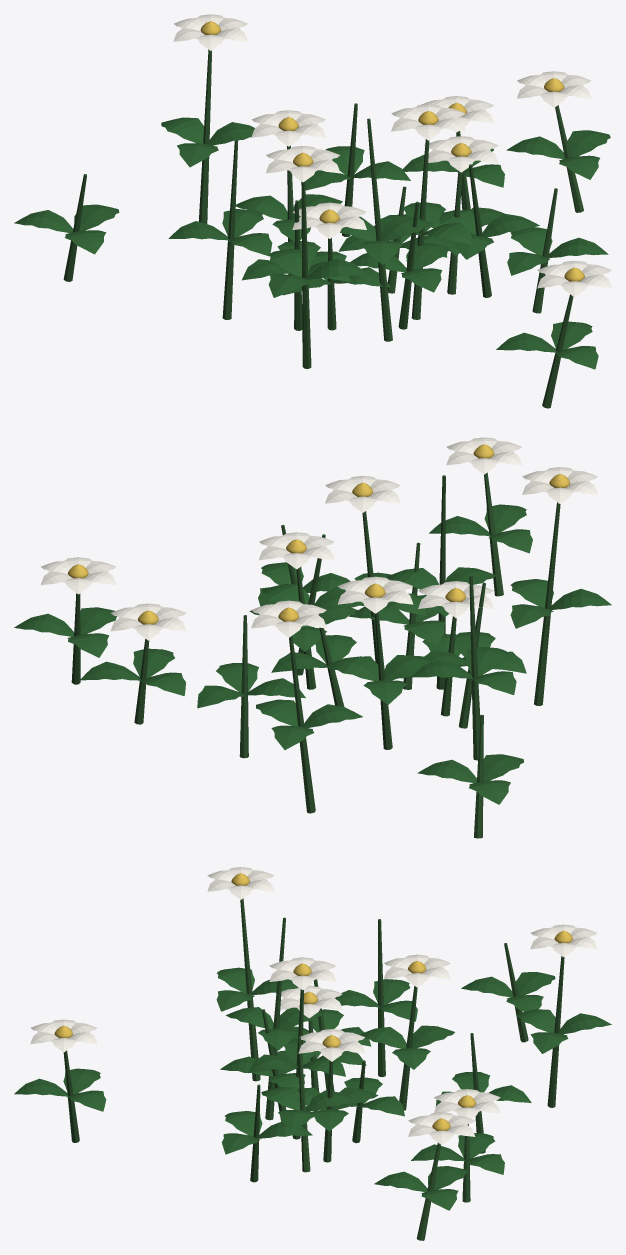
File: detail_wood_anemone.glb
3 views of the same model, one above another, from view 1: azimuth 30°, elevation 25°; view 2: azimuth 150°, elevation 25°; view 3: azimuth 270°, elevation 25° (orthographic). The views are drawn at different scales.
Parts seen in each view (by area): view 1: IndividualAnemoneLeaves, IndividualAnemonePetals, AnemoneStem7, AnemoneStem12, AnemoneStem9, AnemoneStem6, AnemoneStem10, AnemoneStem13, AnemoneStem2, AnemoneStem15, AnemoneStem5, AnemoneStem8 (+5 smaller); view 2: IndividualAnemoneLeaves, IndividualAnemonePetals, AnemoneStem12, AnemoneStem6, AnemoneStem9, AnemoneStem11, AnemoneStem2, AnemoneStem14, AnemoneStem7, AnemoneStem1, AnemoneStem17, AnemoneStem16 (+5 smaller); view 3: IndividualAnemoneLeaves, IndividualAnemonePetals, AnemoneStem12, AnemoneStem6, AnemoneStem9, AnemoneStem7, AnemoneStem13, AnemoneStem14, AnemoneStem8, AnemoneStem2, AnemoneStem5, AnemoneStem1.
Boxes of the visible parts, bbox=[...] form: IndividualAnemoneLeaves: bbox=[14, 117, 610, 369]; IndividualAnemonePetals: bbox=[173, 14, 611, 297]; AnemoneStem7: bbox=[367, 118, 392, 341]; AnemoneStem12: bbox=[301, 181, 311, 368]; AnemoneStem9: bbox=[222, 139, 238, 319]; AnemoneStem6: bbox=[198, 49, 211, 223]; AnemoneStem10: bbox=[411, 139, 429, 319]; AnemoneStem13: bbox=[469, 164, 491, 297]; AnemoneStem2: bbox=[542, 294, 573, 408]; AnemoneStem15: bbox=[398, 201, 418, 329]; AnemoneStem5: bbox=[532, 188, 557, 313]; AnemoneStem8: bbox=[555, 105, 583, 212]; IndividualAnemoneLeaves: bbox=[14, 504, 611, 804]; IndividualAnemonePetals: bbox=[41, 437, 597, 640]; AnemoneStem12: bbox=[534, 502, 560, 705]; AnemoneStem6: bbox=[289, 636, 315, 813]; AnemoneStem9: bbox=[469, 575, 480, 760]; AnemoneStem11: bbox=[239, 615, 248, 758]; AnemoneStem2: bbox=[484, 472, 503, 596]; AnemoneStem14: bbox=[374, 612, 392, 749]; AnemoneStem7: bbox=[436, 475, 445, 689]; AnemoneStem1: bbox=[474, 714, 483, 838]; AnemoneStem17: bbox=[459, 582, 485, 728]; AnemoneStem16: bbox=[134, 639, 149, 724]; IndividualAnemoneLeaves: bbox=[14, 967, 611, 1210]; IndividualAnemonePetals: bbox=[30, 867, 597, 1144]; AnemoneStem12: bbox=[240, 898, 260, 1081]; AnemoneStem6: bbox=[547, 956, 564, 1107]; AnemoneStem9: bbox=[378, 919, 385, 1077]; AnemoneStem7: bbox=[265, 917, 285, 1120]; AnemoneStem13: bbox=[298, 1037, 310, 1172]; AnemoneStem14: bbox=[399, 986, 417, 1110]; AnemoneStem8: bbox=[416, 1143, 440, 1240]; AnemoneStem2: bbox=[63, 1050, 79, 1142]; AnemoneStem5: bbox=[250, 1084, 260, 1182]; AnemoneStem1: bbox=[504, 943, 528, 1042].
Bounding box in the file's own units: 1.08 × 0.4303 × 1.15.
